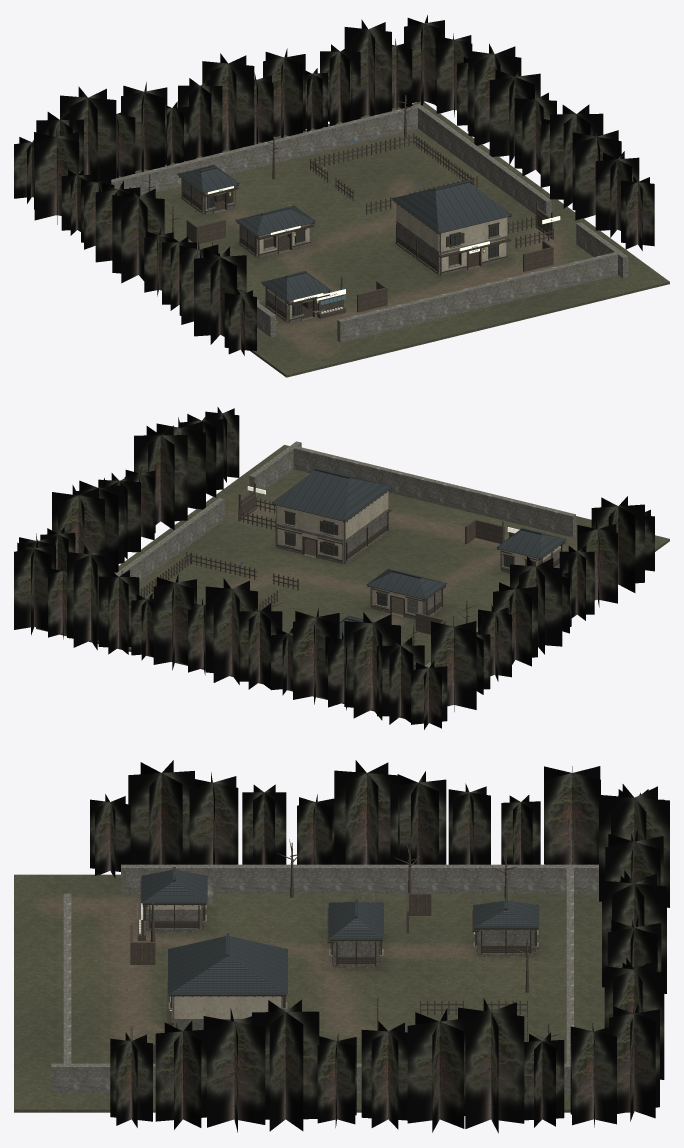
Rendered from farm.glb.
The picture shows the model from 3 angles, top to bottom: view 1: azimuth 30°, elevation 25°; view 2: azimuth 150°, elevation 25°; view 3: azimuth 270°, elevation 25°; orthographic projection. The views are drawn at different scales.
Parts seen in each view (by area): view 1: Ground, Farm boundary, PinePatch_-1_2, StaticArchitecture, PinePatch_1_2, PinePatch_2_0, PinePatch_-2_2, PinePatch_-3_1, PinePatch_0_2, PinePatch_2_-1, PinePatch_-3_-2, PinePatch_-3_0 (+15 smaller); view 2: Ground, PinePatch_-1_2, Farm boundary, PinePatch_-2_2, StaticArchitecture, PinePatch_1_2, PinePatch_-3_1, PinePatch_0_2, PinePatch_2_-1, PinePatch_-3_0, PinePatch_-3_-1, PinePatch_2_0 (+10 smaller); view 3: Ground, Farm boundary, PinePatch_2_0, PinePatch_2_-1, PinePatch_-3_1, PinePatch_2_1, PinePatch_-3_0, PinePatch_-3_-1, PinePatch_2_2, PinePatch_-3_-2, PinePatch_2_-2, StaticArchitecture (+11 smaller).
Part boxes in pixels (x1,y1,x2,y2): Ground: [116, 101, 669, 377]; Farm boundary: [79, 104, 628, 342]; PinePatch_-1_2: [121, 53, 254, 171]; StaticArchitecture: [181, 179, 511, 323]; PinePatch_1_2: [320, 19, 412, 125]; PinePatch_2_0: [489, 66, 556, 187]; PinePatch_-2_2: [36, 86, 135, 182]; PinePatch_-3_1: [34, 129, 114, 249]; PinePatch_0_2: [254, 48, 327, 143]; PinePatch_2_-1: [550, 104, 621, 220]; PinePatch_-3_-2: [194, 247, 256, 355]; PinePatch_-3_0: [95, 181, 164, 283]; Ground: [36, 445, 669, 718]; PinePatch_-1_2: [205, 578, 339, 704]; Farm boundary: [115, 441, 575, 667]; PinePatch_-2_2: [325, 612, 424, 724]; StaticArchitecture: [275, 491, 565, 619]; PinePatch_1_2: [48, 545, 139, 654]; PinePatch_-3_1: [431, 605, 511, 711]; PinePatch_0_2: [131, 574, 205, 675]; PinePatch_2_-1: [134, 417, 205, 529]; PinePatch_-3_0: [493, 556, 562, 666]; PinePatch_-3_-1: [559, 520, 617, 633]; PinePatch_2_0: [76, 467, 155, 572]; Ground: [14, 874, 634, 1112]; Farm boundary: [51, 864, 598, 1092]; PinePatch_2_0: [317, 1008, 465, 1132]; PinePatch_2_-1: [203, 999, 319, 1132]; PinePatch_-3_1: [448, 766, 600, 864]; PinePatch_2_1: [458, 998, 564, 1133]; PinePatch_-3_0: [334, 760, 446, 864]; PinePatch_-3_-1: [189, 772, 334, 864]; PinePatch_2_2: [570, 1003, 659, 1127]; PinePatch_-3_-2: [90, 760, 194, 878]; PinePatch_2_-2: [110, 1020, 208, 1129]; StaticArchitecture: [140, 881, 538, 1030].
Size of the model in its own units: 61.22 by 11.31 by 61.32.
Materials: 20 (10 with a texture image).
